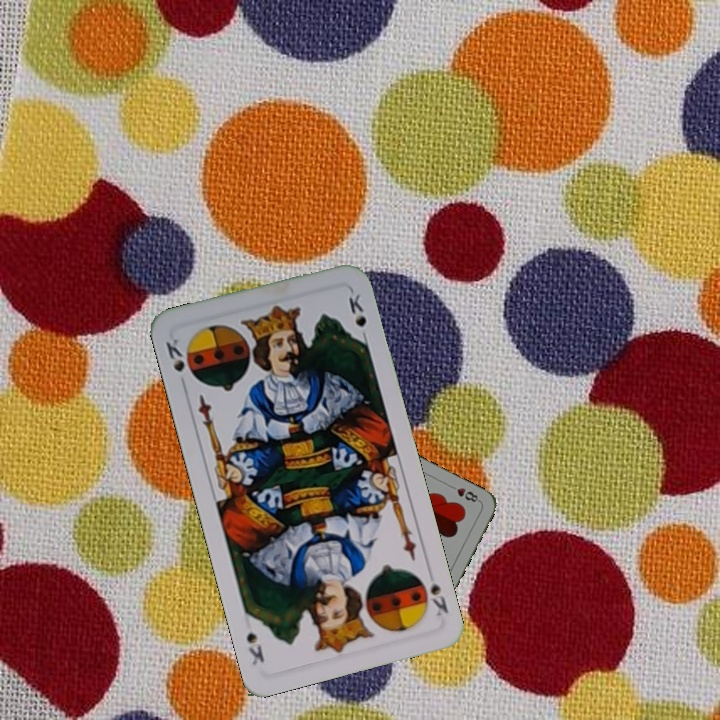H8: (445, 481, 483, 505)
SK: (161, 334, 189, 391), (423, 565, 451, 619)
